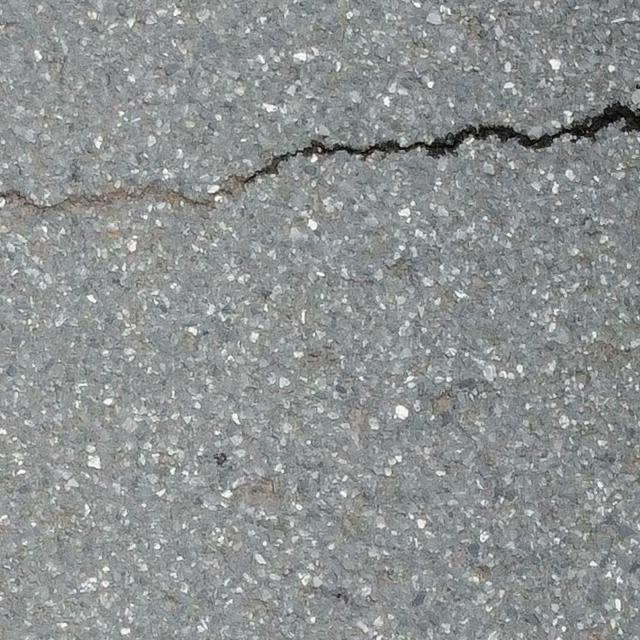TransverseCrack: (1, 101, 640, 213)
